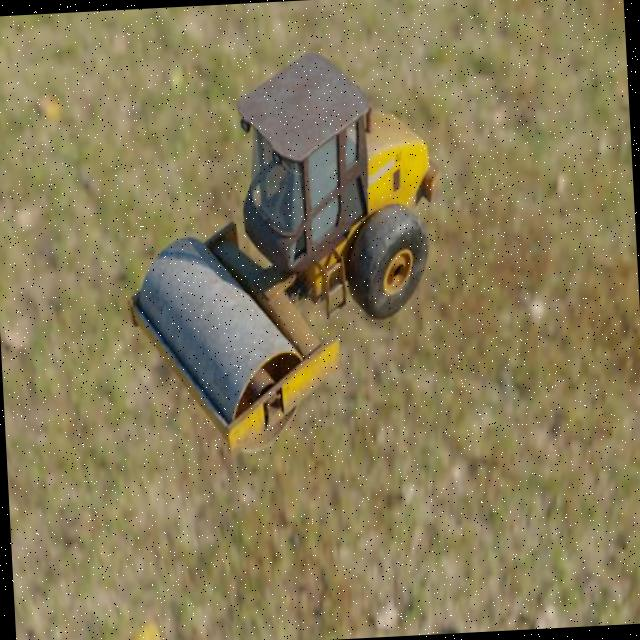Roller: (113, 44, 454, 461)
